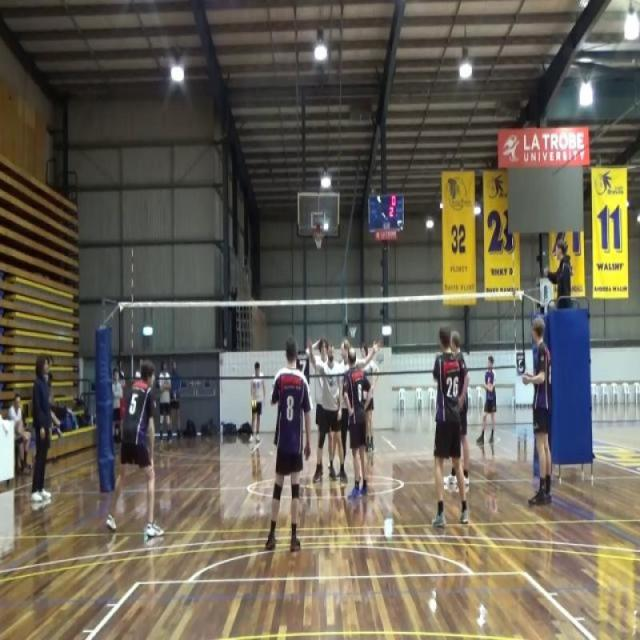volleyball: (250, 399, 258, 411)
